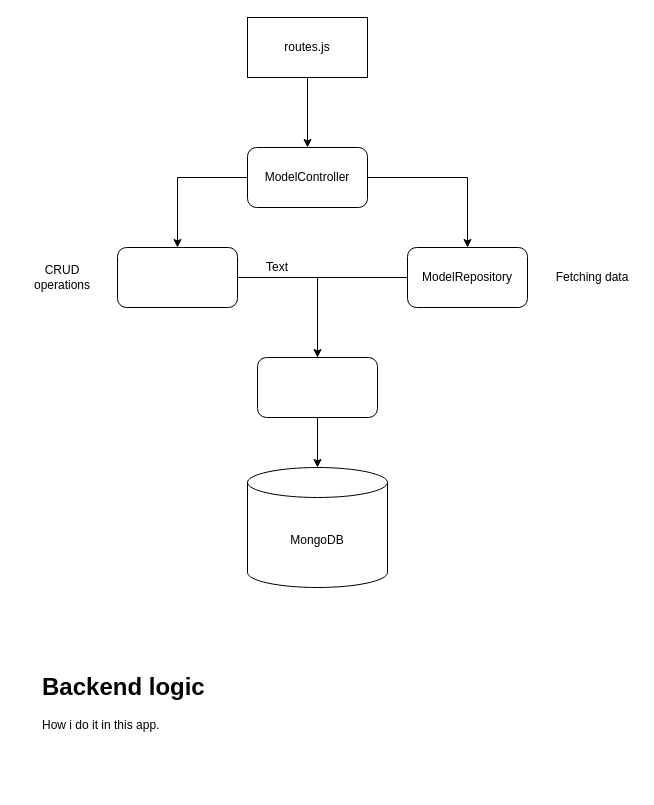
Image size: 654x805. Some labels were removed from this diagram. Each missing label, with the box of its shape:
Model: (256, 356, 378, 418)
ModelService: (116, 246, 238, 308)
